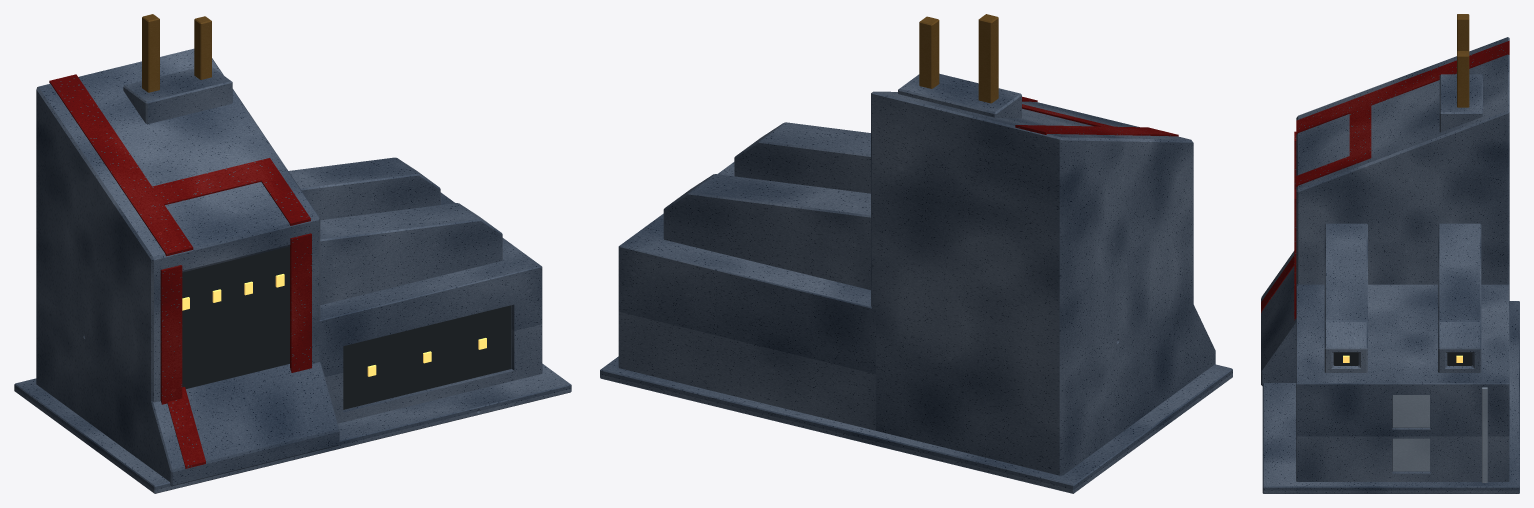
3 views of the same model, side by side, from view 1: azimuth 30°, elevation 25°; view 2: azimuth 150°, elevation 25°; view 3: azimuth 270°, elevation 25° (orthographic). The views are drawn at different scales.
Parts seen in each view (by area): view 1: Extraction Unit high continuous inclined block, Extraction Unit four dark blind backings, Extraction Unit four continuous red assemblies, Extraction Unit low projecting body, Extraction Unit sloping front tower foot, Extraction Unit long low roof duct 0, Extraction Unit grounded foot, Extraction Unit long low roof duct 1, Extraction Unit low brass post seating plinth, Extraction Unit two unequal brass posts, Extraction Unit nine opaque warm source points; view 2: Extraction Unit high continuous inclined block, Extraction Unit low projecting body, Extraction Unit long low roof duct 1, Extraction Unit grounded foot, Extraction Unit long low roof duct 0, Extraction Unit two unequal brass posts, Extraction Unit low brass post seating plinth, Extraction Unit four continuous red assemblies, Extraction Unit sloping front tower foot; view 3: Extraction Unit high continuous inclined block, Extraction Unit low projecting body, Extraction Unit grounded foot, Extraction Unit long low roof duct 1, Extraction Unit long low roof duct 0, Extraction Unit four continuous red assemblies, Extraction Unit sloping front tower foot, Extraction Unit three pale end assemblies, Extraction Unit low brass post seating plinth, Extraction Unit two unequal brass posts, Extraction Unit four dark blind backings.
Boxes of the visible parts, box(x1,y1,x2,y2) form: Extraction Unit high continuous inclined block: box(36, 48, 320, 467); Extraction Unit four dark blind backings: box(182, 246, 511, 409); Extraction Unit four continuous red assemblies: box(49, 74, 311, 468); Extraction Unit low projecting body: box(319, 192, 542, 423); Extraction Unit sloping front tower foot: box(151, 362, 339, 486); Extraction Unit long low roof duct 0: box(320, 203, 502, 304); Extraction Unit grounded foot: box(14, 363, 571, 493); Extraction Unit long low roof duct 1: box(288, 157, 440, 220); Extraction Unit low brass post seating plinth: box(123, 67, 232, 124); Extraction Unit two unequal brass posts: box(142, 14, 211, 92); Extraction Unit nine opaque warm source points: box(182, 274, 486, 376); Extraction Unit high continuous inclined block: box(871, 91, 1193, 475); Extraction Unit low projecting body: box(618, 162, 875, 430); Extraction Unit long low roof duct 1: box(663, 174, 870, 289); Extraction Unit grounded foot: box(600, 356, 1232, 493); Extraction Unit long low roof duct 0: box(734, 122, 870, 193); Extraction Unit two unequal brass posts: box(919, 14, 998, 103); Extraction Unit low brass post seating plinth: box(898, 73, 1021, 118); Extraction Unit four continuous red assemblies: box(1015, 96, 1178, 136); Extraction Unit sloping front tower foot: box(1193, 305, 1215, 379); Extraction Unit high continuous inclined block: box(1296, 37, 1509, 284); Extraction Unit low projecting body: box(1296, 284, 1509, 481); Extraction Unit grounded foot: box(1262, 301, 1519, 493); Extraction Unit long low roof duct 1: box(1438, 223, 1481, 372); Extraction Unit long low roof duct 0: box(1324, 223, 1367, 372); Extraction Unit four continuous red assemblies: box(1261, 40, 1509, 320); Extraction Unit sloping front tower foot: box(1261, 251, 1296, 385); Extraction Unit three pale end assemblies: box(1392, 387, 1487, 482); Extraction Unit low brass post seating plinth: box(1439, 74, 1482, 132); Extraction Unit two unequal brass posts: box(1457, 14, 1469, 107); Extraction Unit four dark blind backings: box(1333, 352, 1472, 365).
Size of the model in its own units: 2.64 by 2.24 by 1.55.
6 materials, 4 textured.
